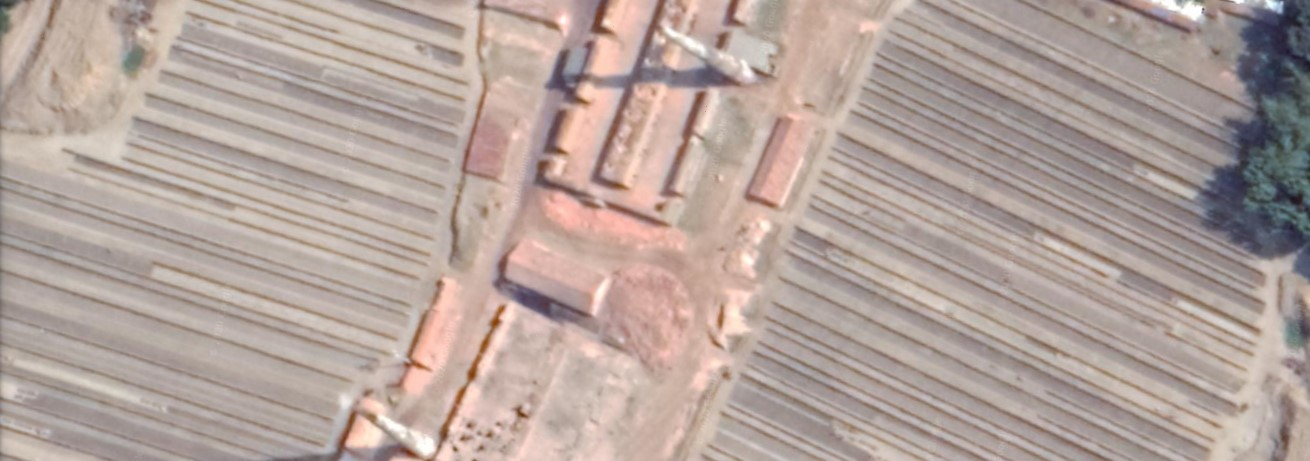kiln: (333, 268, 689, 461), (541, 10, 796, 240)
